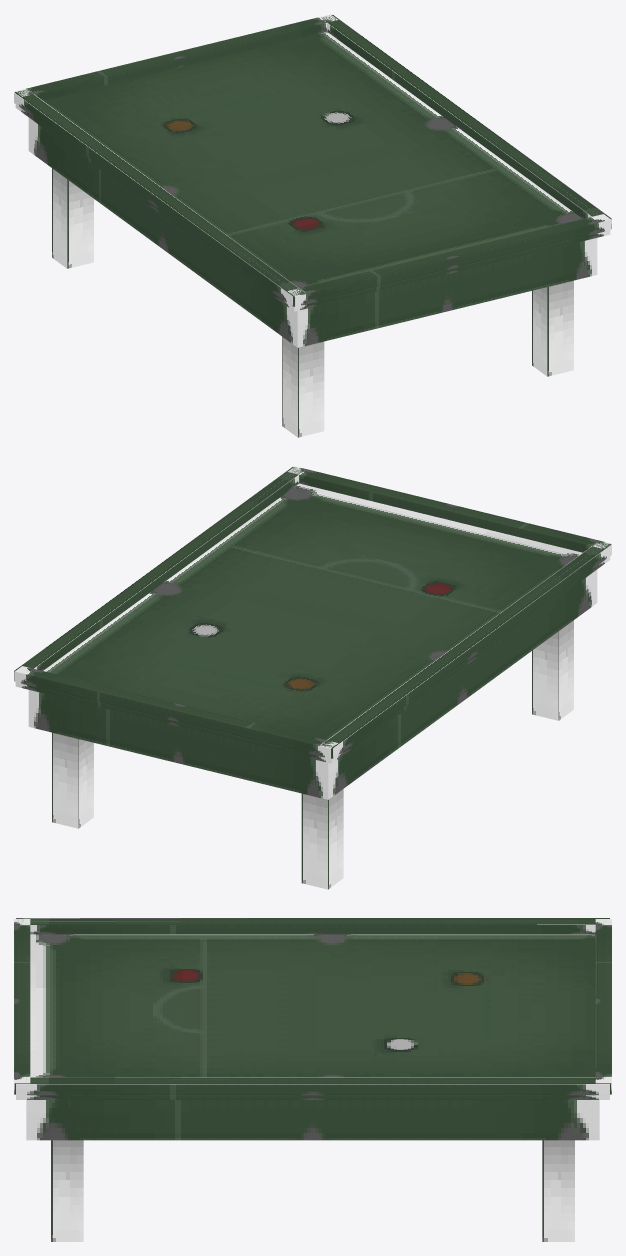
File: Building_BilliardsTable.glb
3 views of the same model, one above another, from view 1: azimuth 30°, elevation 25°; view 2: azimuth 150°, elevation 25°; view 3: azimuth 270°, elevation 25° (orthographic). The views are drawn at different scales.
Parts seen in each view (by area): view 1: BilliardsTable; view 2: BilliardsTable; view 3: BilliardsTable.
Boxes of the visible parts, x1,y1,x2,y2 form: BilliardsTable: (14, 14, 611, 437); BilliardsTable: (14, 466, 611, 889); BilliardsTable: (14, 918, 611, 1241).
Size of the model in its own units: 1.92 by 0.91 by 2.92.
Materials: 1 (1 with a texture image).
